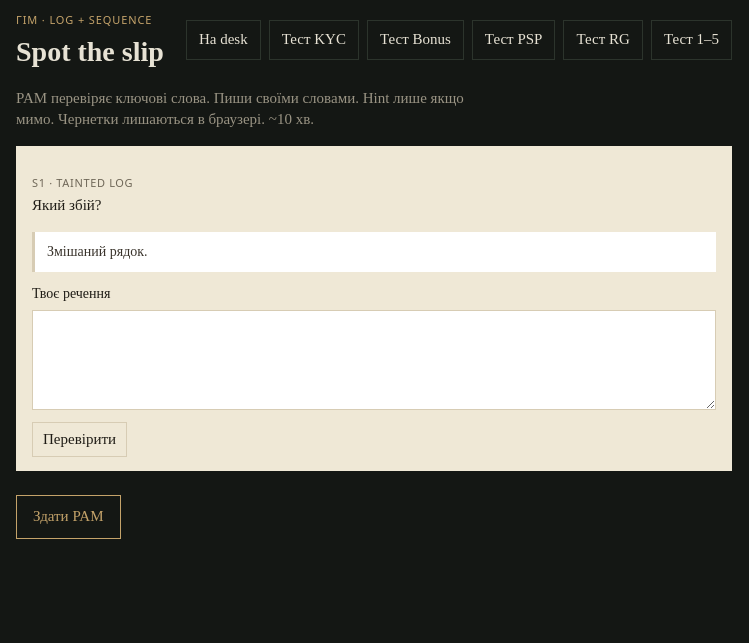
it: drill submits to PAM grade
This screenshot has width=749, height=643.
Expected: the text "Який збій?" is shown, [32,197,102,213]
Type "дві розвилки депозит і вивід" into the text box with test id "s1-text" at [374, 360], box [32,310,716,410]
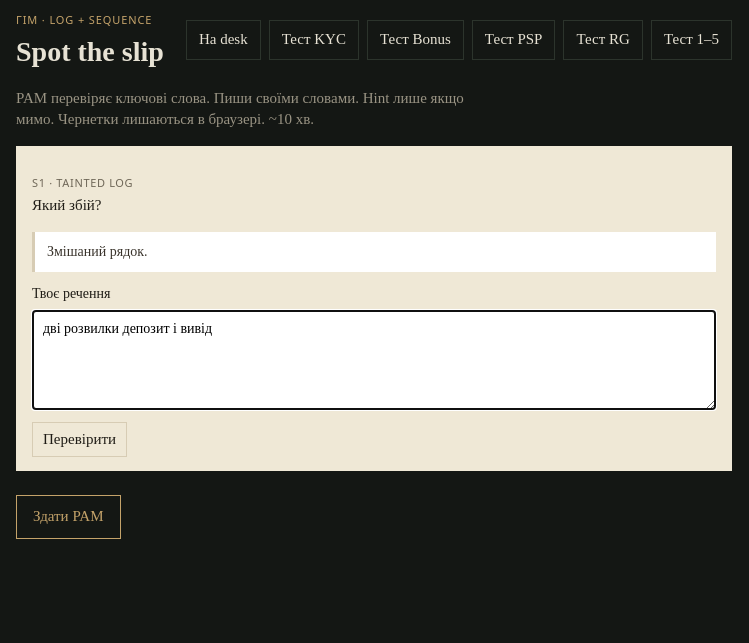
Click the button with test id "drill-submit" at [68, 517], box [16,495,120,539]
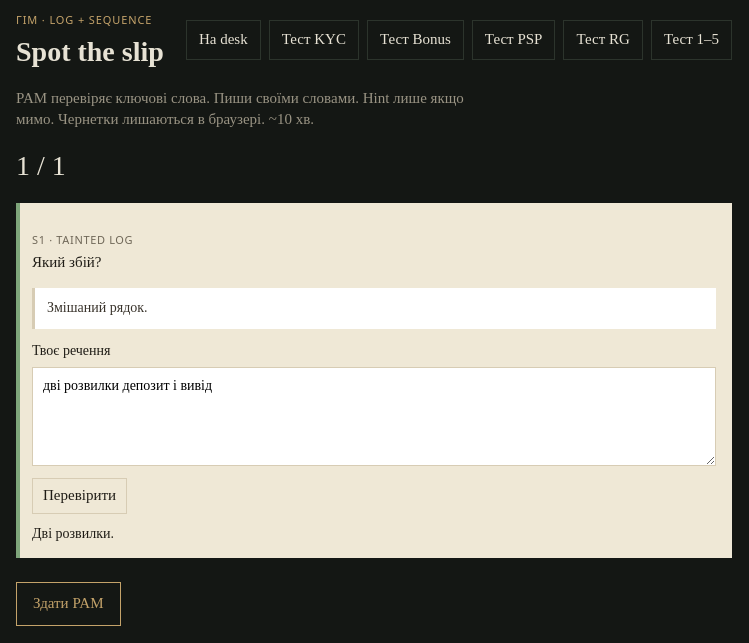
Expected: the text with test id "drill-score" reads "1 / 1", [16,150,66,181]
